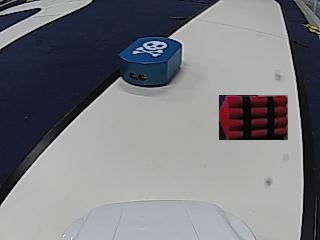danger: (131, 40, 166, 56)
